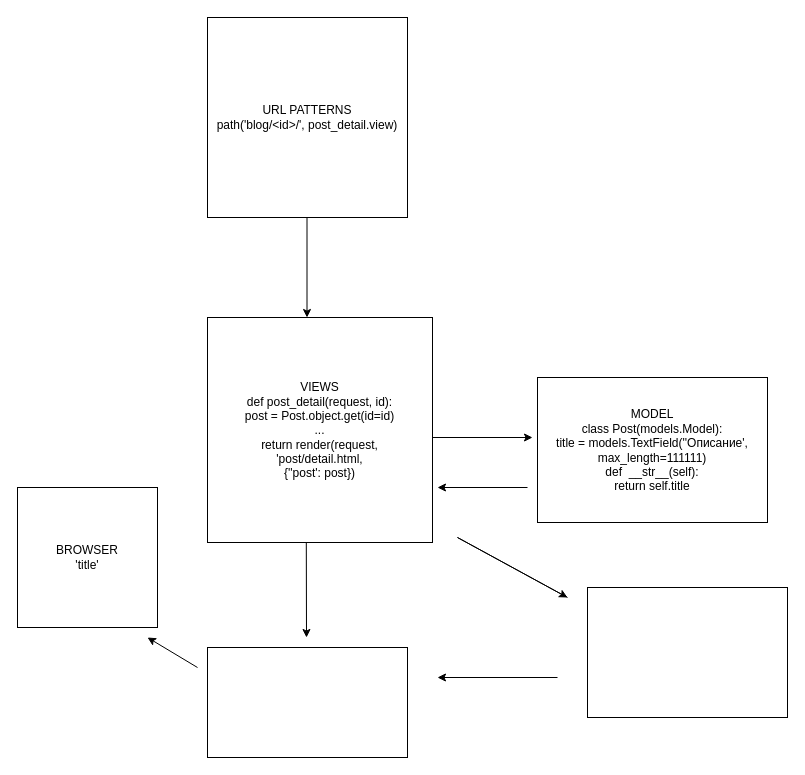
This 805x775 diagram has some shape labels left out. The centre of each missing label's shape, as x and y in pixels:
"https::/127.0.0.1:8000/blog/33" belongs at (307,702).
"TEMPLATE <html> <body> <h1>{{ post.title }}</h1>" belongs at (687,652).
